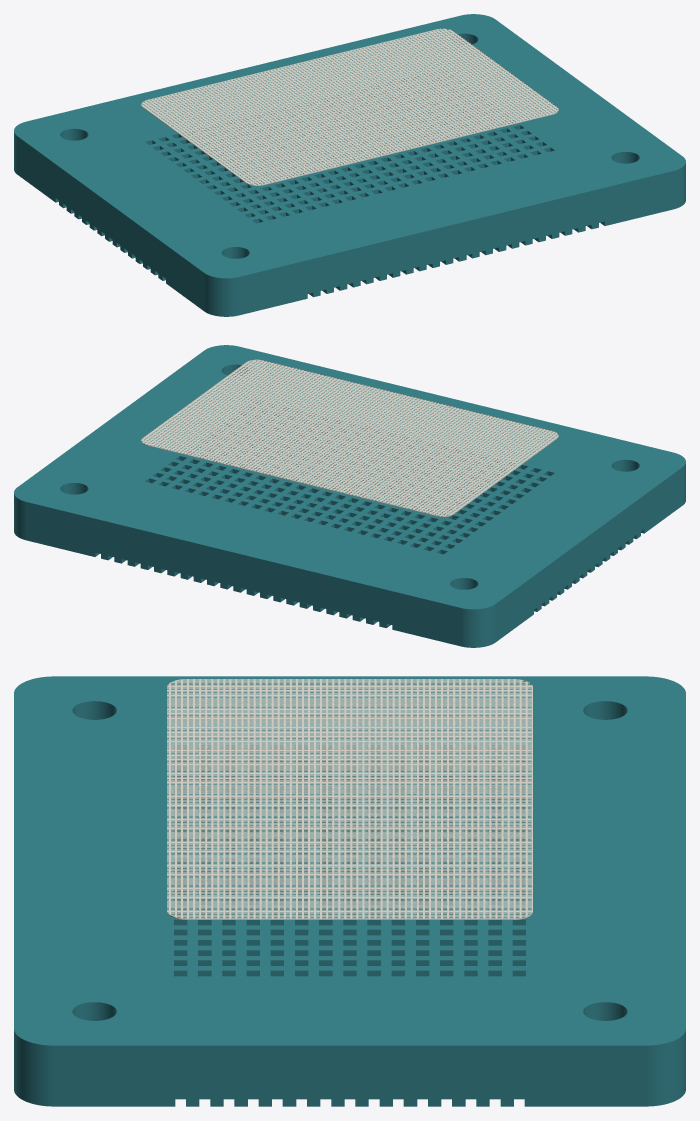
3 views of the same model, one above another, from view 1: azimuth 30°, elevation 25°; view 2: azimuth 150°, elevation 25°; view 3: azimuth 270°, elevation 25° (orthographic). The views are drawn at different scales.
Visible parts, largest first — view 1: LAPS Marle | grid | lowerPetg, LAPS Marle | grid | lowerGauze; view 2: LAPS Marle | grid | lowerPetg, LAPS Marle | grid | lowerGauze; view 3: LAPS Marle | grid | lowerPetg, LAPS Marle | grid | lowerGauze.
Part boxes in pixels (x1,y1,x2,y2): LAPS Marle | grid | lowerPetg: (14, 14, 685, 316); LAPS Marle | grid | lowerGauze: (141, 28, 558, 185); LAPS Marle | grid | lowerPetg: (14, 345, 685, 647); LAPS Marle | grid | lowerGauze: (141, 359, 558, 516); LAPS Marle | grid | lowerPetg: (14, 676, 685, 1106); LAPS Marle | grid | lowerGauze: (167, 679, 532, 919).
Bounding box in the file's own units: 0.13 × 0.0202 × 0.1.
3 materials, 1 textured.
